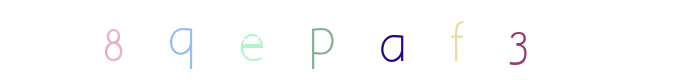3: (457, 0, 537, 80)
8: (183, 0, 263, 80)
A: (309, 0, 389, 80)
E: (223, 0, 303, 80)
F: (354, 0, 434, 80)
P: (298, 0, 378, 80)
Q: (221, 0, 301, 80)
